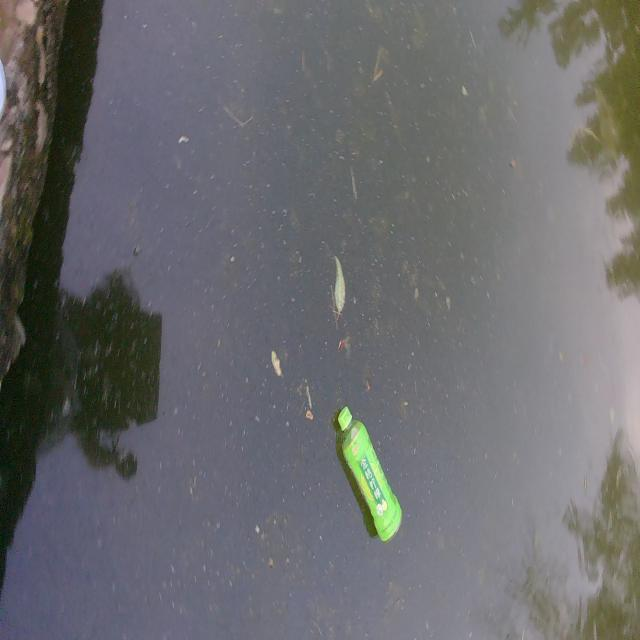Bottle: (334, 399, 405, 545)
